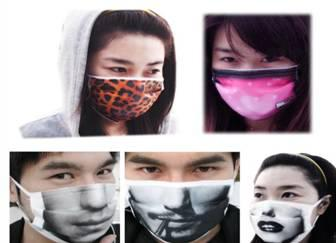OK: (12, 155, 122, 243), (127, 154, 233, 243), (212, 41, 300, 122), (98, 52, 165, 119), (252, 182, 317, 241)
